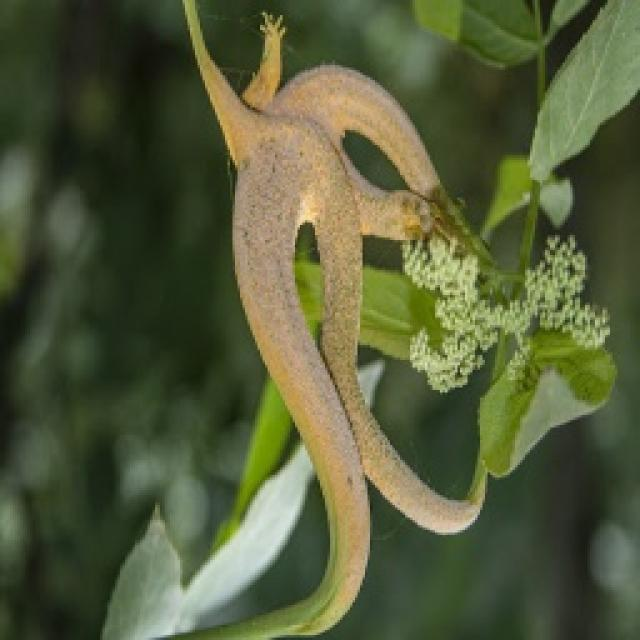Elderberry_rust: (162, 0, 492, 638)
